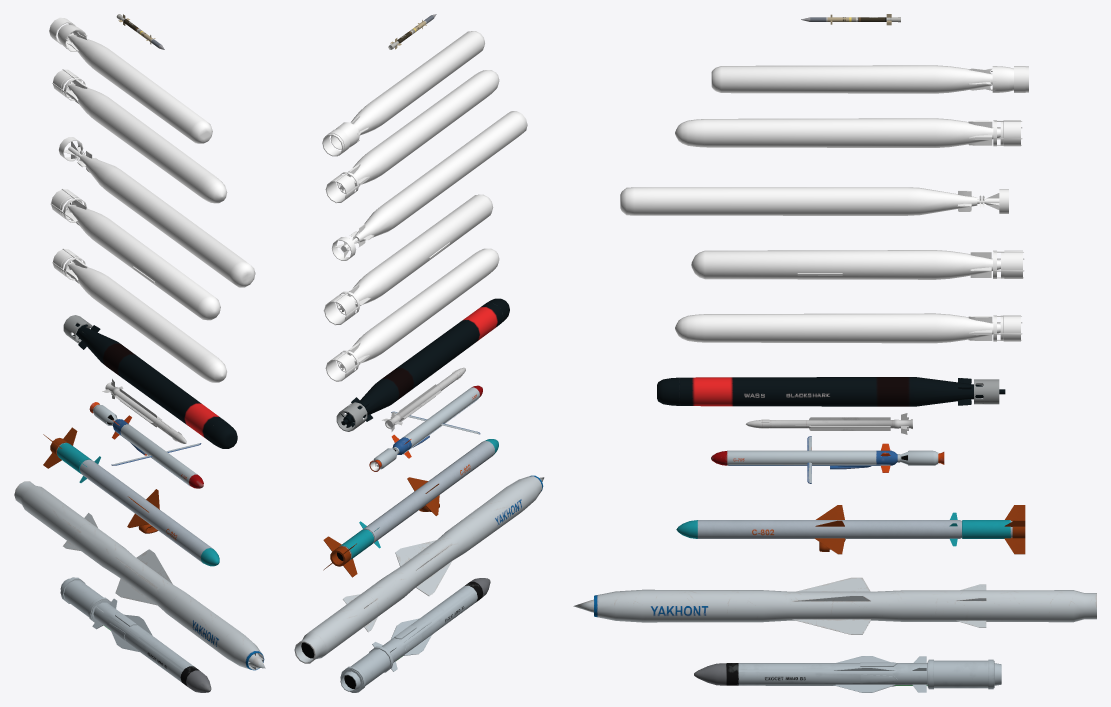
File: low_poly_missiles_and_torpedos.glb
3 views of the same model, side by side, from view 1: azimuth 30°, elevation 25°; view 2: azimuth 150°, elevation 25°; view 3: azimuth 270°, elevation 25° (orthographic). The views are drawn at different scales.
Visible parts, largest first — view 1: P-800 Yakhont_10, MK24 Tigerfish_22, Black Shark_17, SST4 SEAL_19, AEG SUT 264_24, A184_21, Mk-48 ADCAP_26, C-802 Missile_11, Exocet MM40 B3_9, C-705 Missile_12, SAM VL MICA_13; view 2: P-800 Yakhont_10, MK24 Tigerfish_22, SST4 SEAL_19, AEG SUT 264_24, Black Shark_17, A184_21, Mk-48 ADCAP_26, C-802 Missile_11, Exocet MM40 B3_9, C-705 Missile_12, SAM VL MICA_13; view 3: P-800 Yakhont_10, MK24 Tigerfish_22, AEG SUT 264_24, Black Shark_17, SST4 SEAL_19, A184_21, Mk-48 ADCAP_26, Exocet MM40 B3_9, C-802 Missile_11, C-705 Missile_12, SAM VL MICA_13.
Part boxes in pixels (left/top/right/bottom): P-800 Yakhont_10: left=14, top=481, right=265, bottom=670; MK24 Tigerfish_22: left=59, top=137, right=255, bottom=287; Black Shark_17: left=63, top=315, right=237, bottom=448; SST4 SEAL_19: left=52, top=248, right=226, bottom=382; AEG SUT 264_24: left=52, top=69, right=227, bottom=203; A184_21: left=50, top=189, right=220, bottom=320; Mk-48 ADCAP_26: left=49, top=17, right=212, bottom=143; C-802 Missile_11: left=43, top=427, right=219, bottom=566; Exocet MM40 B3_9: left=60, top=577, right=211, bottom=692; C-705 Missile_12: left=89, top=402, right=203, bottom=488; SAM VL MICA_13: left=102, top=379, right=186, bottom=443; P-800 Yakhont_10: left=294, top=475, right=544, bottom=663; MK24 Tigerfish_22: left=332, top=111, right=527, bottom=260; SST4 SEAL_19: left=325, top=248, right=499, bottom=381; AEG SUT 264_24: left=325, top=70, right=499, bottom=203; Black Shark_17: left=336, top=298, right=509, bottom=431; A184_21: left=323, top=194, right=493, bottom=325; Mk-48 ADCAP_26: left=322, top=31, right=484, bottom=156; C-802 Missile_11: left=323, top=439, right=498, bottom=577; Exocet MM40 B3_9: left=340, top=578, right=490, bottom=692; C-705 Missile_12: left=369, top=385, right=482, bottom=471; SAM VL MICA_13: left=382, top=367, right=465, bottom=431; P-800 Yakhont_10: left=573, top=577, right=1096, bottom=634; MK24 Tigerfish_22: left=620, top=187, right=1008, bottom=215; AEG SUT 264_24: left=675, top=118, right=1022, bottom=147; Black Shark_17: left=657, top=377, right=1005, bottom=406; SST4 SEAL_19: left=675, top=313, right=1022, bottom=343; A184_21: left=691, top=250, right=1024, bottom=279; Mk-48 ADCAP_26: left=711, top=65, right=1028, bottom=93; Exocet MM40 B3_9: left=694, top=656, right=1001, bottom=692; C-802 Missile_11: left=676, top=505, right=1025, bottom=554; C-705 Missile_12: left=711, top=436, right=944, bottom=483; SAM VL MICA_13: left=746, top=413, right=912, bottom=434.
Bounding box in the file's own units: 2.09 × 13.86 × 9.73.
18 materials, 8 textured.
